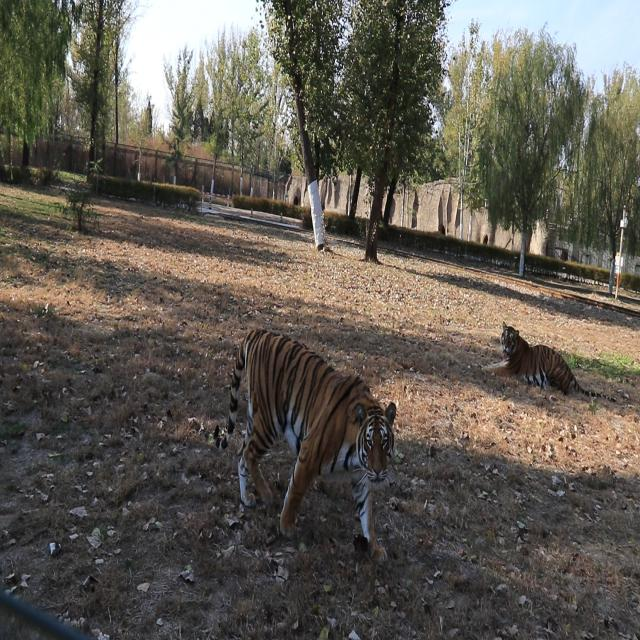Tiger: (200, 320, 410, 569), (481, 319, 616, 409)
